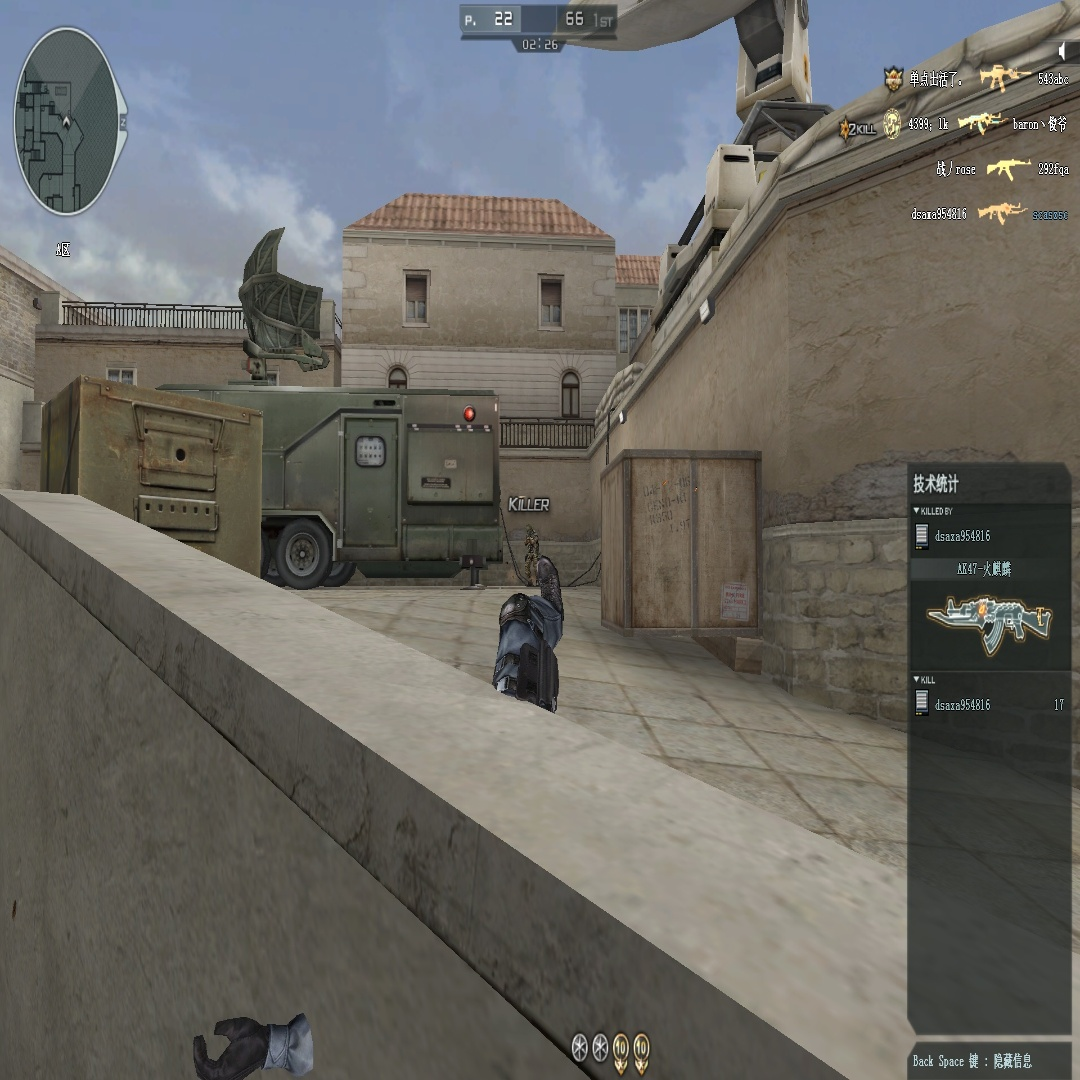p: (523, 528, 541, 588)
